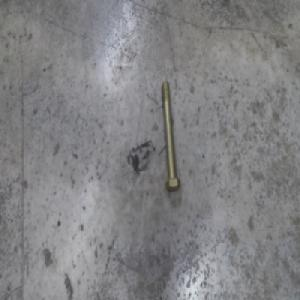Bolt: (160, 79, 181, 192)
